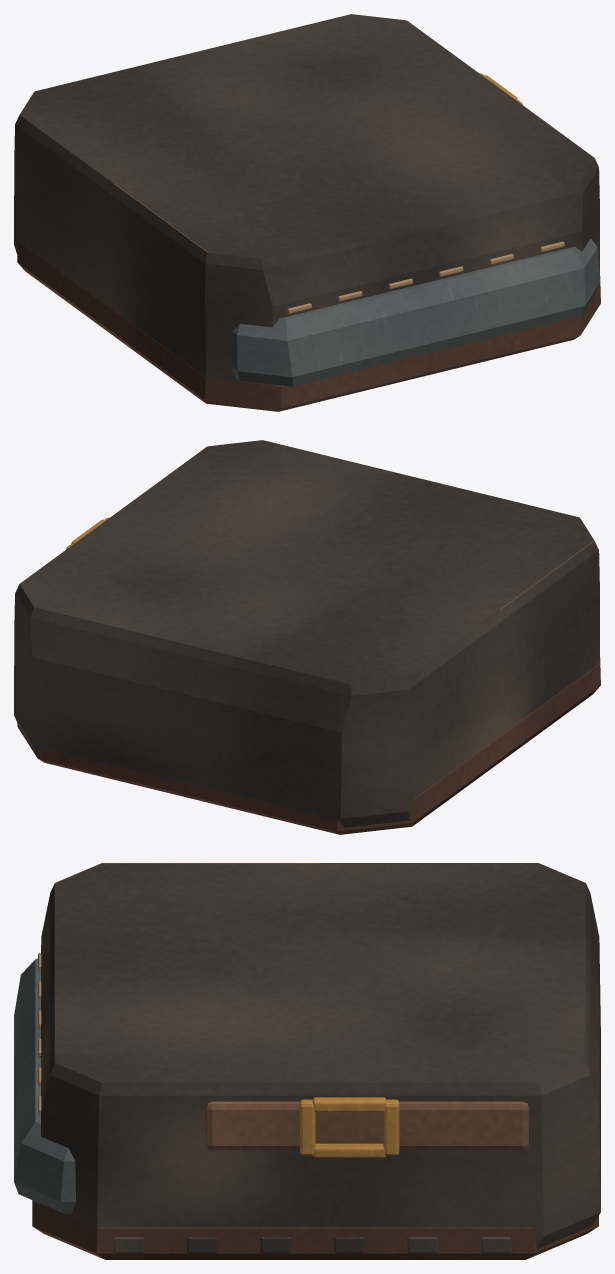
The model's file is 09_Botte_G.fbx.
3 views of the same model, one above another, from view 1: azimuth 30°, elevation 25°; view 2: azimuth 150°, elevation 25°; view 3: azimuth 270°, elevation 25° (orthographic). The views are drawn at different scales.
Parts seen in each view (by area): view 1: 09_Botte_G; view 2: 09_Botte_G; view 3: 09_Botte_G.
Part boxes in pixels (box(x1,y1,x2,y2)): 09_Botte_G: box(14, 14, 600, 411); 09_Botte_G: box(14, 440, 600, 834); 09_Botte_G: box(14, 863, 600, 1259).
Size of the model in its own units: 1.03 by 0.369 by 1.11.
Materials: 1 (1 with a texture image).
